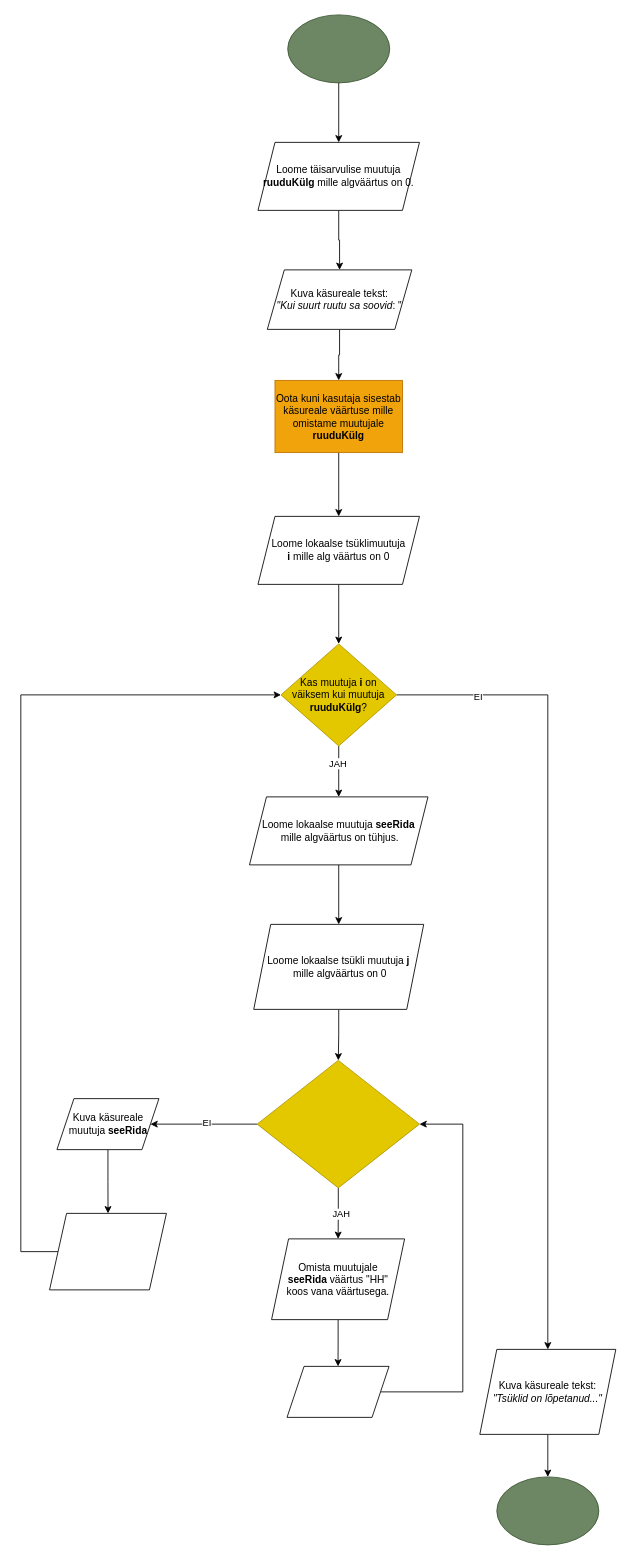
The diagram is 631 pixels wide and 1560 high, and some of its shapes have lost their labels. The box of each missing label's shape, as (x1, y1, x2, y2) in pixels:
ALGUS: (287, 14, 390, 83)
Kas muutuja j on väiksem kui muutuja ruuduKülg ?: (256, 1060, 419, 1188)
LÕPP: (496, 1476, 599, 1545)
Suurenda muutuja i väärtust 1 võrra.: (49, 1213, 166, 1290)
Suurenda muutujat j 1 arvu võrra.: (286, 1366, 389, 1417)
